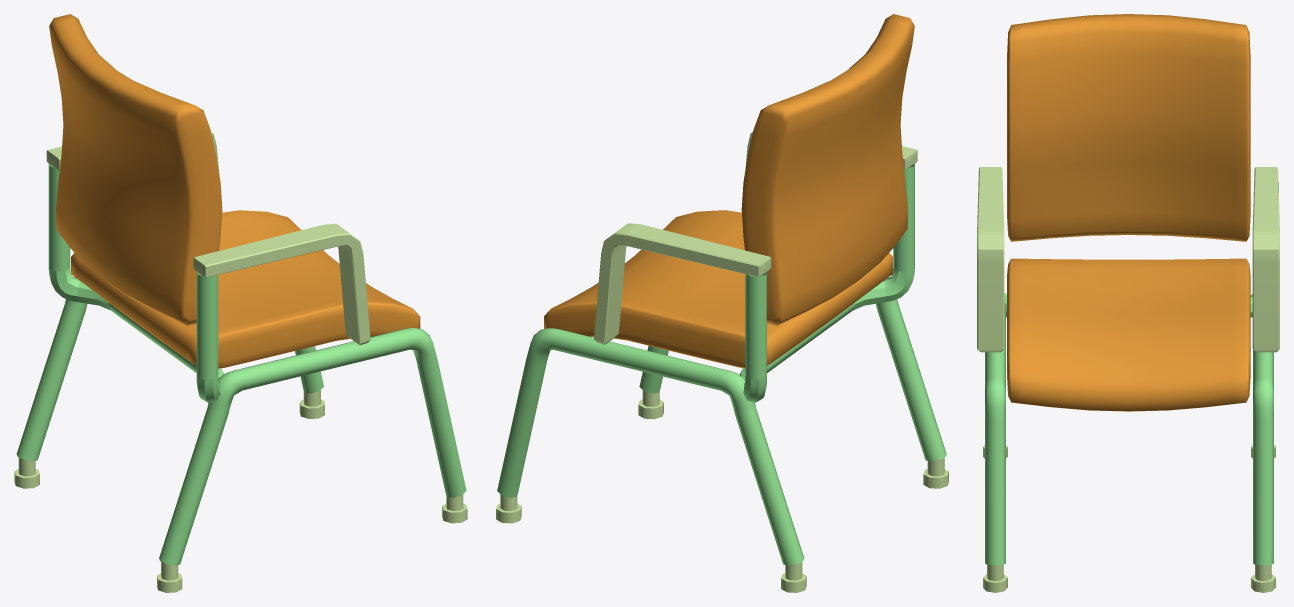
Rendered from chair.fbx.
3 renders of one model, left to right at view 1: azimuth 30°, elevation 25°; view 2: azimuth 150°, elevation 25°; view 3: azimuth 270°, elevation 25°, orthographic. The views are drawn at different scales.
Parts seen in each view (by area): view 1: chair; view 2: chair; view 3: chair.
Boxes of the visible parts, box(x1,y1,x2,y2) form: chair: box(14, 14, 467, 592); chair: box(496, 14, 948, 592); chair: box(977, 14, 1279, 592).
Size of the model in its own units: 64.19 by 93.07 by 58.06.
